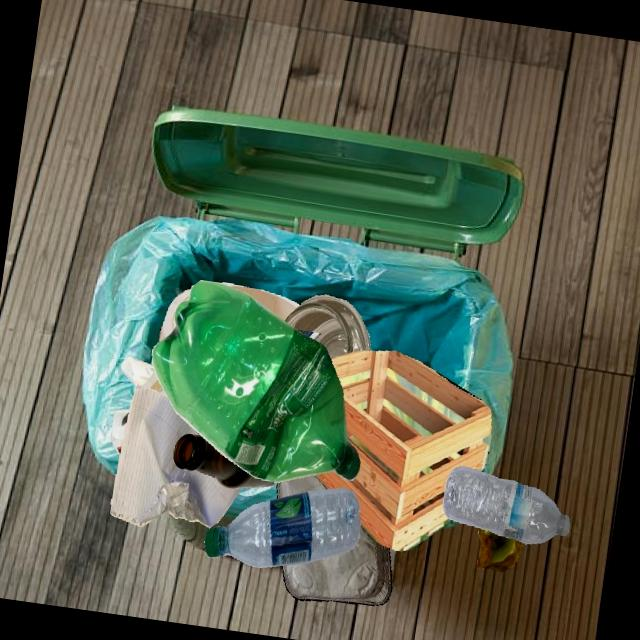biowaste: (477, 528, 523, 572)
combustible waste: (314, 351, 491, 551), (219, 282, 300, 321), (158, 288, 192, 343)
glass: (173, 433, 277, 489), (284, 295, 371, 359)
metal: (282, 527, 392, 606)
paper: (130, 330, 297, 511), (111, 385, 240, 528), (389, 548, 396, 571)
plastic: (152, 281, 360, 483), (204, 488, 361, 568), (443, 466, 570, 544)
